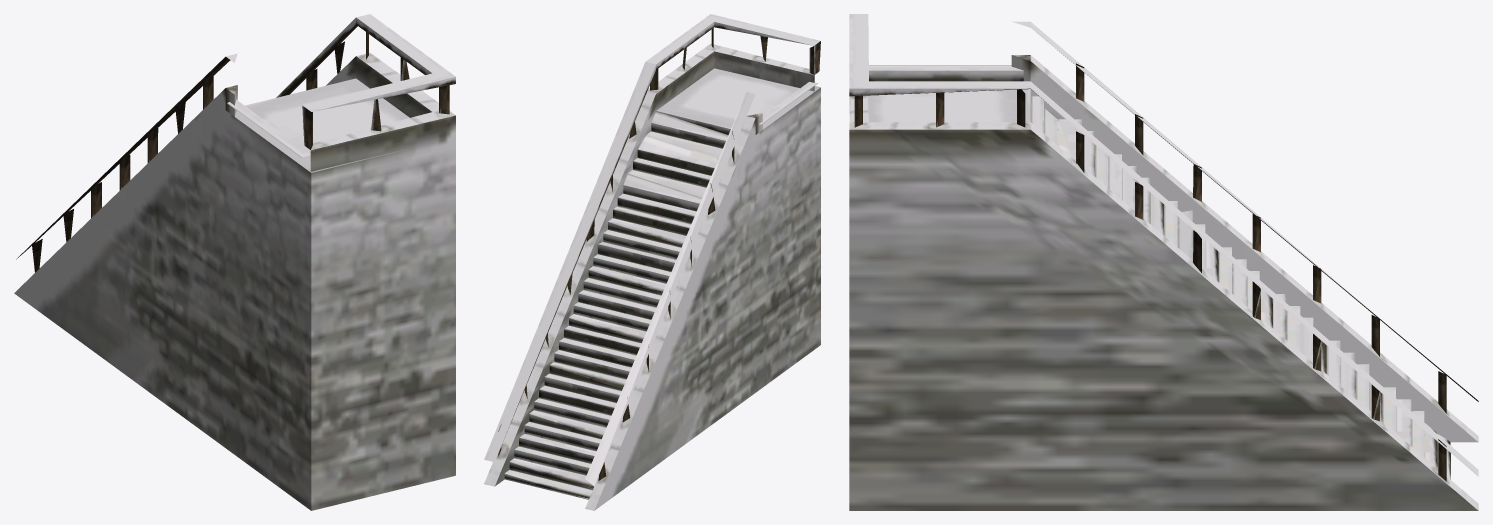
Rendered from general_obj_watchtower03_lod_01.glb.
3 renders of one model, left to right at view 1: azimuth 30°, elevation 25°; view 2: azimuth 150°, elevation 25°; view 3: azimuth 270°, elevation 25°, orthographic. The views are drawn at different scales.
Visible parts, largest first — view 1: Object02; view 2: Object02; view 3: Object02.
Part boxes in pixels (x1,y1,x2,y2): Object02: [14, 14, 455, 510]; Object02: [484, 14, 820, 510]; Object02: [849, 14, 1478, 510].
Size of the model in its own units: 2.91 by 7.49 by 10.12.
Materials: 1 (1 with a texture image).
